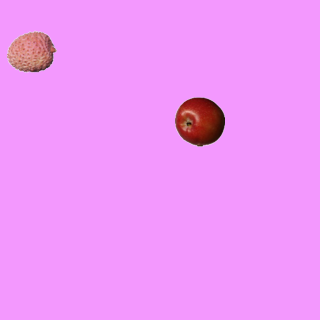Apple Braeburn: (174, 96, 224, 146)
Lychee: (6, 26, 56, 76)
